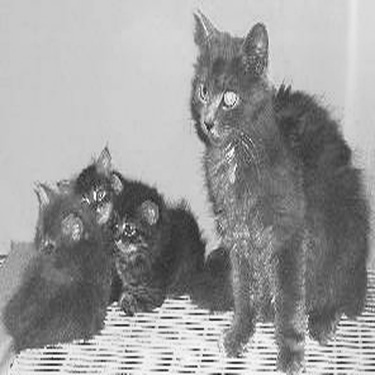cat: (192, 9, 369, 373), (1, 183, 112, 355), (116, 166, 232, 311), (54, 143, 127, 305)
